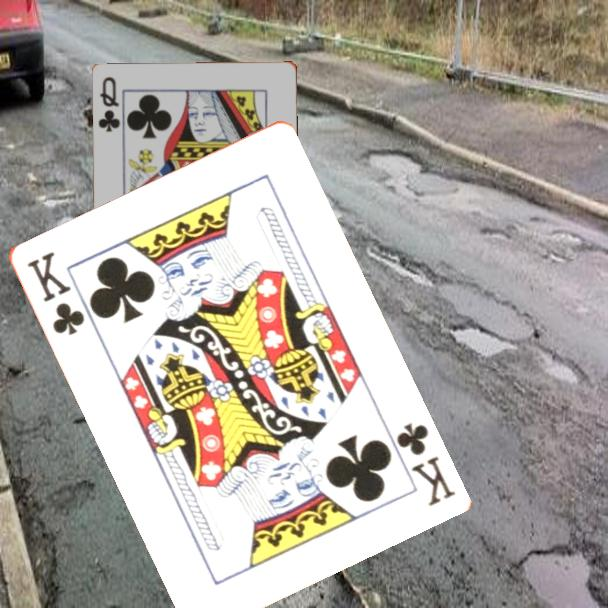c12: (95, 73, 123, 135)
c13: (392, 418, 458, 509), (23, 248, 87, 338)
